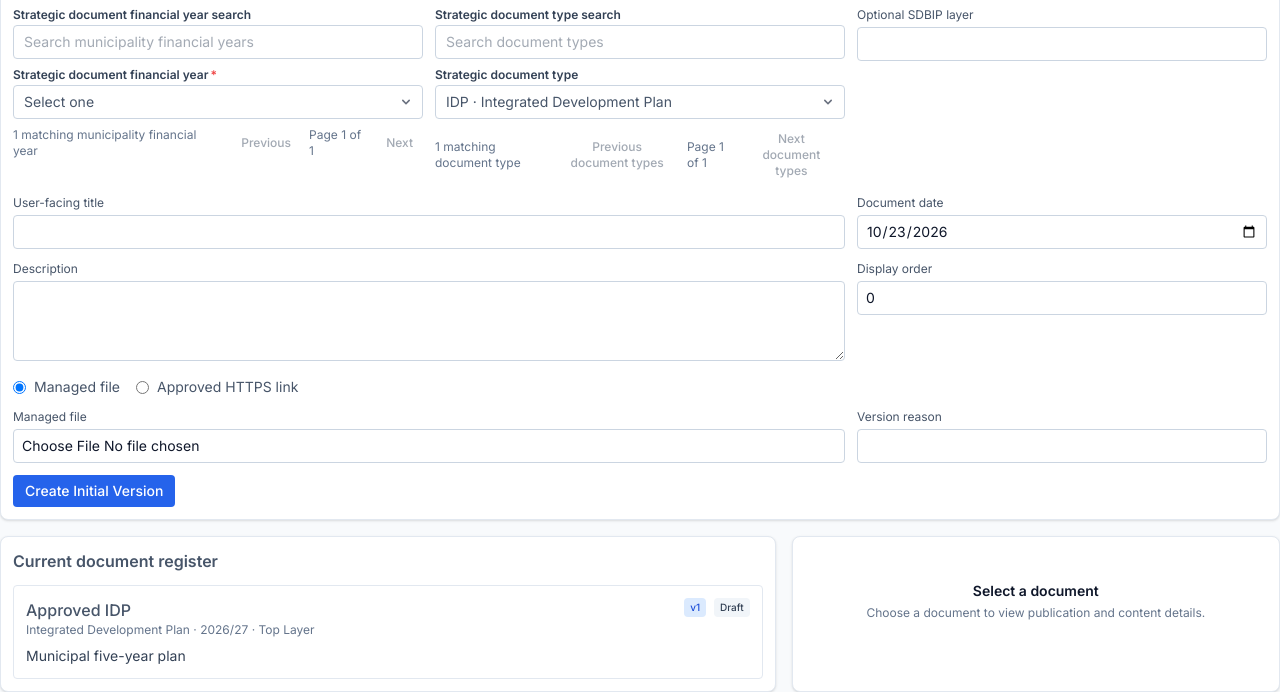
Test case: Strategic documents workspace › searches and pages immutable strategic-document history with authoritative totals
Later steps or results of the test are not shown.
(page scrolled)
Click the button "Approved IDP": (78, 610) [13,585,763,679]
(page scrolled)
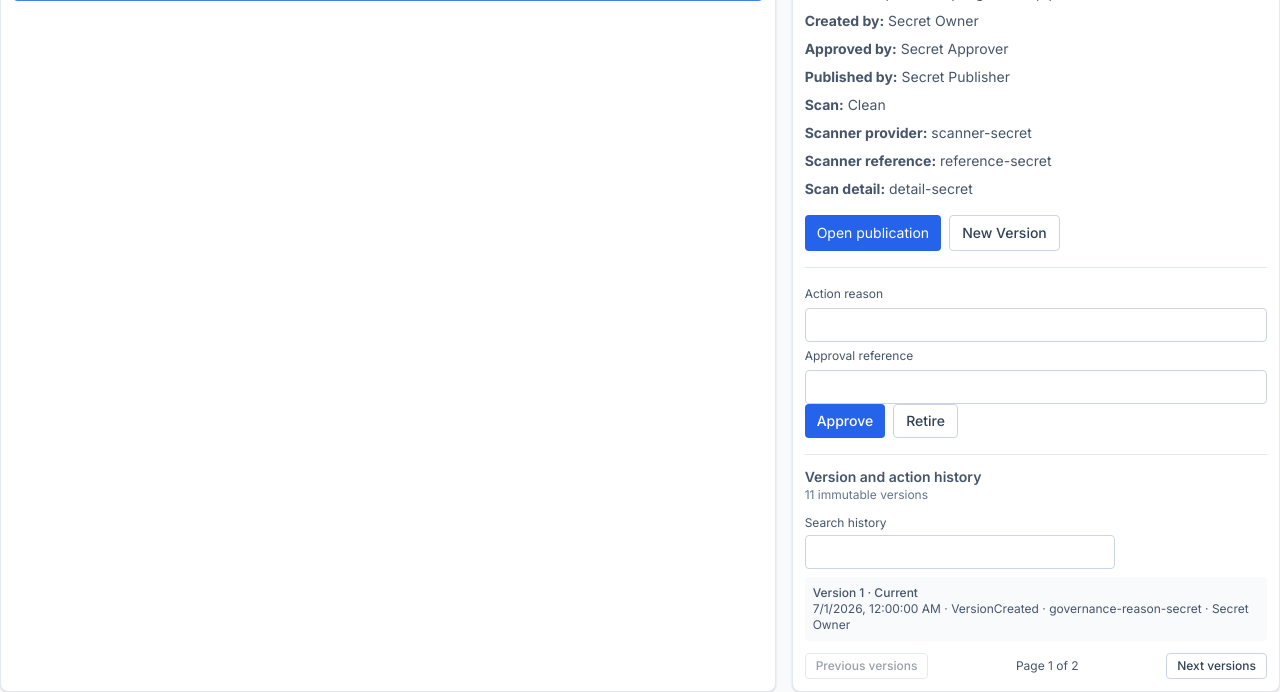
Check: the text "11 immutable versions" is shown, box [805,487,928,502]
